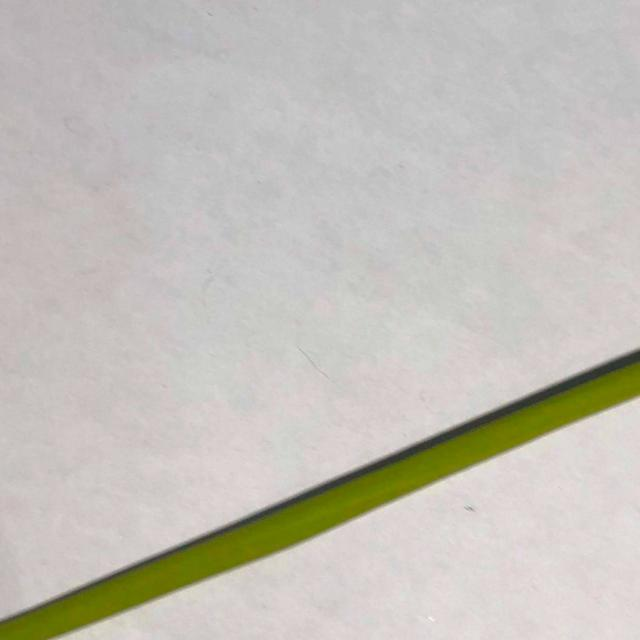Rice_Healthy: (0, 349, 640, 640)
